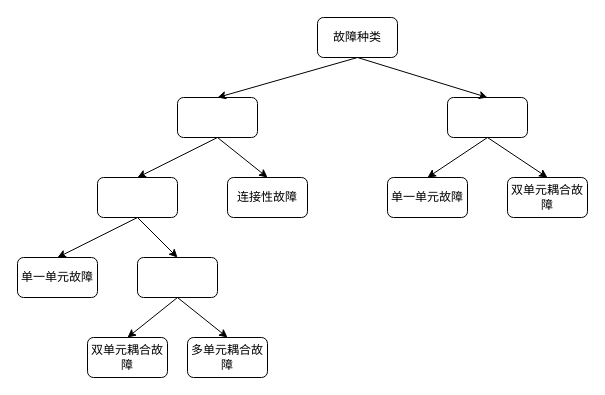
Image size: 605x395. Some labels were removed from this diagram. The shapes that lost their labels are listed below. From the top down, each one's box as (x1, y1, x2, y2) in pixels, then its label:
(176, 96, 258, 138): 静态故障
(446, 96, 528, 138): 动态故障
(96, 176, 178, 218): 简单故障
(136, 256, 218, 298): 耦合故障
